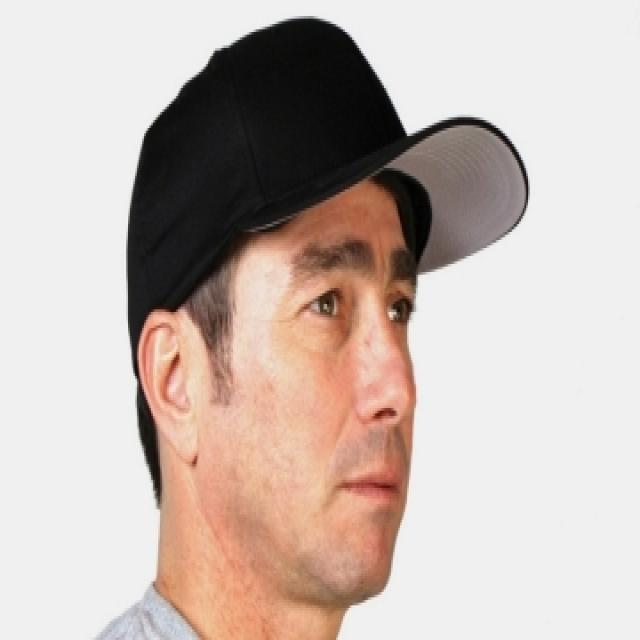3_gorra: (127, 18, 529, 342)
